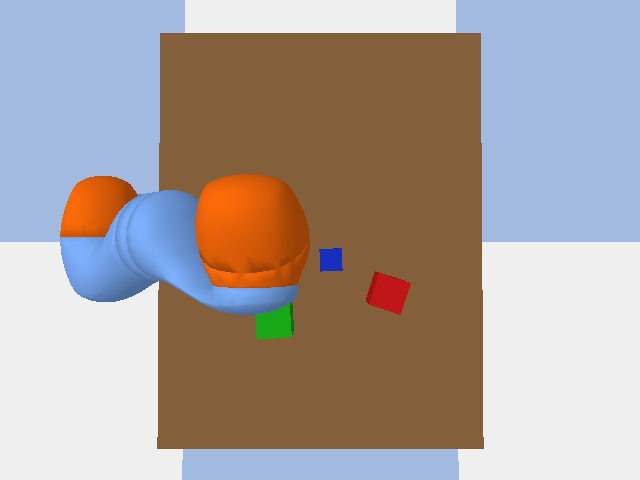blue_obj: (319, 248, 342, 271)
green_obj: (255, 302, 293, 339)
red_obj: (366, 271, 410, 314)
